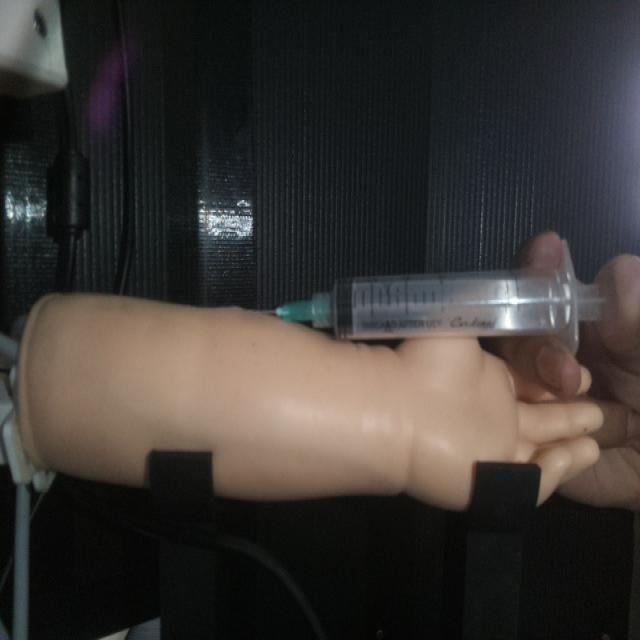Outside: (245, 235, 624, 354)
